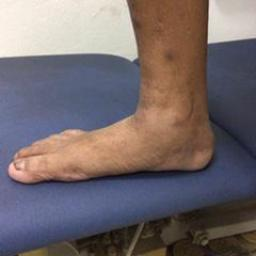Medial View -Right Foot-: (4, 82, 219, 195)
